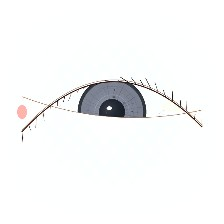pinguecula_lesion: (149, 87, 197, 125)
